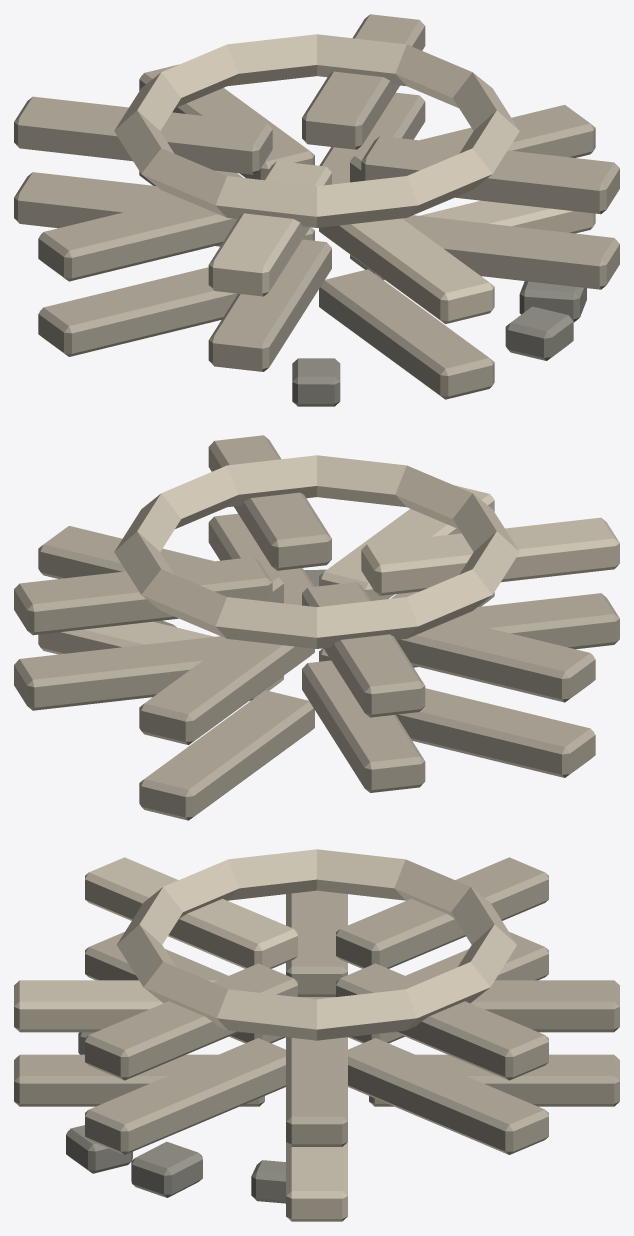
File: runtime.glb
3 views of the same model, one above another, from view 1: azimuth 30°, elevation 25°; view 2: azimuth 150°, elevation 25°; view 3: azimuth 270°, elevation 25° (orthographic).
Visible parts, largest first — view 1: falkenwacht-stone-well-v03_nocol; view 2: falkenwacht-stone-well-v03_nocol; view 3: falkenwacht-stone-well-v03_nocol.
Boxes of the visible parts, x1=… form: falkenwacht-stone-well-v03_nocol: x1=14, y1=14, x2=619, y2=406; falkenwacht-stone-well-v03_nocol: x1=14, y1=435, x2=619, y2=820; falkenwacht-stone-well-v03_nocol: x1=14, y1=849, x2=619, y2=1221.
Bounding box in the file's own units: 3.72 × 1.24 × 3.72.
